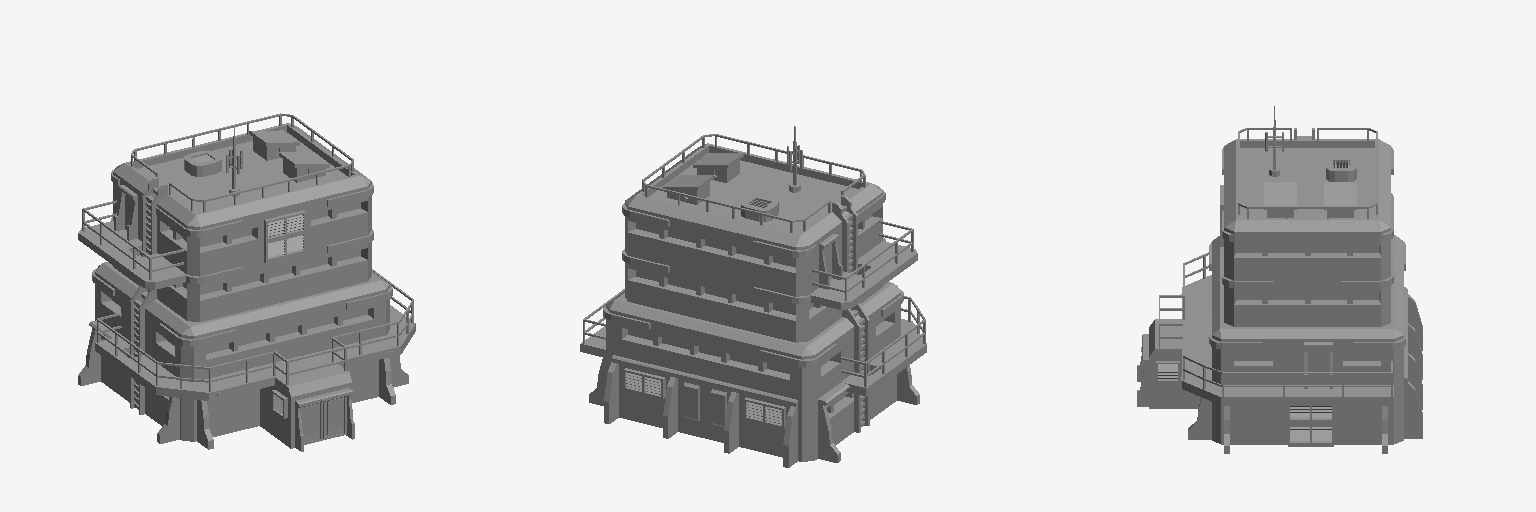
Rendered from High_building_1_.obj.
3 renders of one model, left to right at view 1: azimuth 30°, elevation 25°; view 2: azimuth 150°, elevation 25°; view 3: azimuth 270°, elevation 25°, orthographic.
Parts seen in each view (by area): view 1: Cube.041_Cube.100; view 2: Cube.041_Cube.100; view 3: Cube.041_Cube.100.
Boxes of the visible parts, x1=… form: Cube.041_Cube.100: x1=78, y1=113, x2=415, y2=451; Cube.041_Cube.100: x1=580, y1=126, x2=926, y2=467; Cube.041_Cube.100: x1=1137, y1=106, x2=1422, y2=453.
Size of the model in its own units: 4.15 by 4.19 by 3.94.